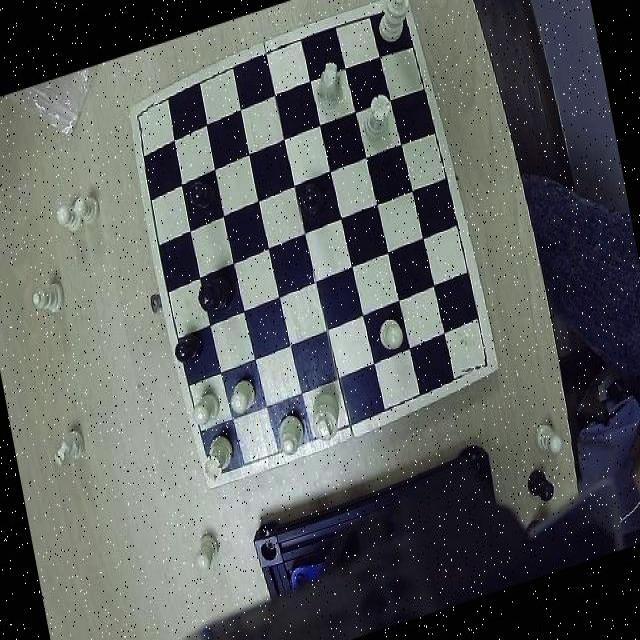chess-table-corners: (458, 340, 494, 380), (202, 452, 236, 487), (379, 0, 411, 32), (132, 100, 160, 135)
